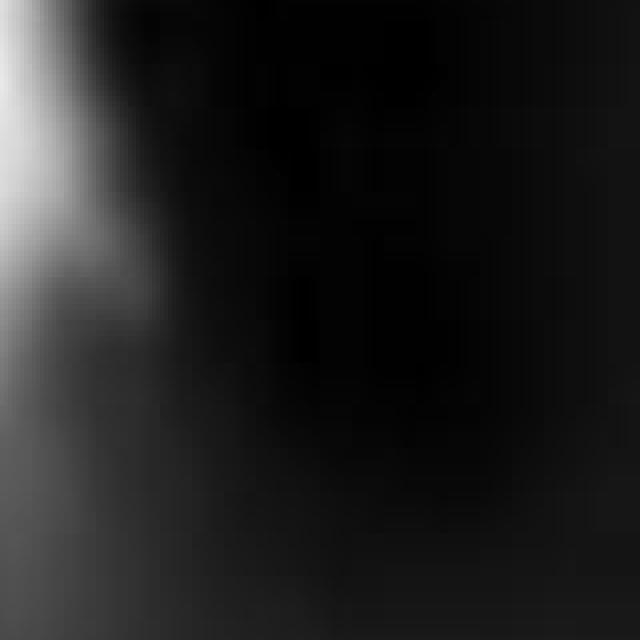person: (1, 1, 141, 417)
